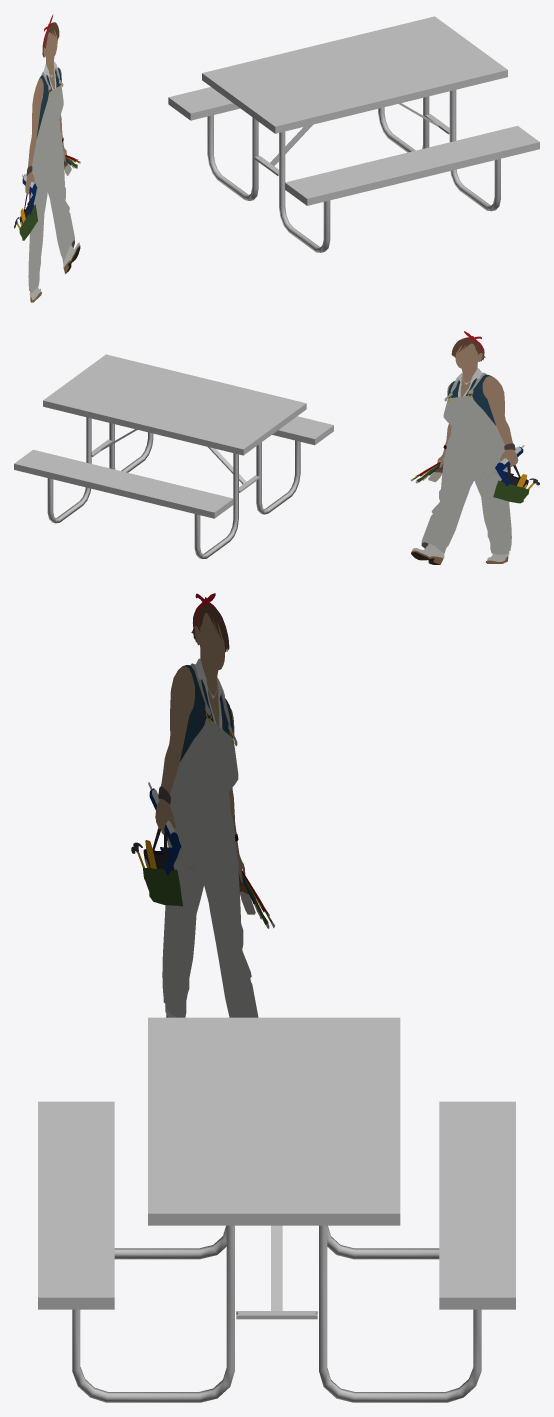
The model's file is picnic.dae.
3 renders of one model, top to bottom at view 1: azimuth 30°, elevation 25°; view 2: azimuth 150°, elevation 25°; view 3: azimuth 270°, elevation 25°, orthographic. The views are drawn at different scales.
Parts seen in each view (by area): view 1: SketchUp (×8), Lisanne (×3); view 2: SketchUp (×8), Lisanne (×5); view 3: SketchUp (×8), Lisanne (×4).
Boxes of the visible parts, left/top/right/bottom form: SketchUp (×8): left=168, top=16, right=539, bottom=252; Lisanne (×3): left=27, top=30, right=74, bottom=292; SketchUp (×8): left=14, top=354, right=333, bottom=558; Lisanne (×5): left=421, top=343, right=529, bottom=554; SketchUp (×8): left=38, top=1017, right=515, bottom=1402; Lisanne (×4): left=143, top=612, right=258, bottom=1017.
Size of the model in its own units: 129 by 61.95 by 66.88.
